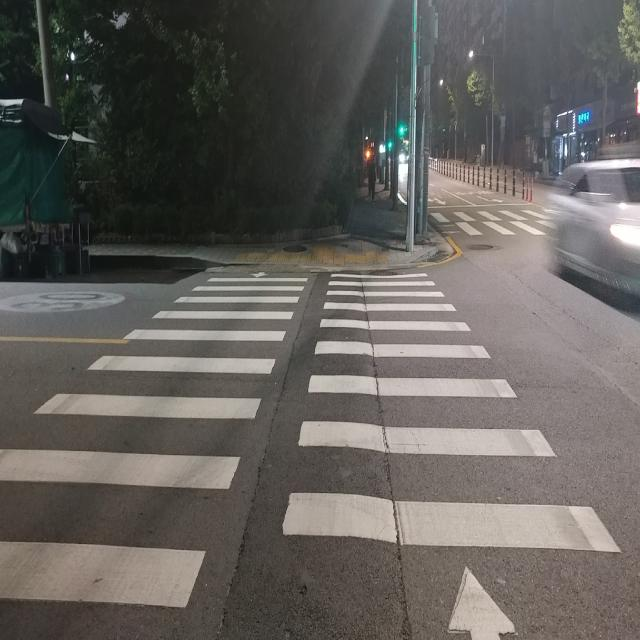횡단보도: (0, 268, 625, 640), (436, 203, 552, 238)
